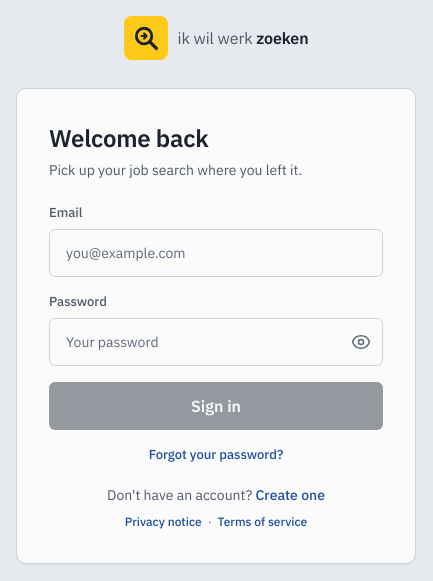
Test: LoginView › submit button is enabled when both fields have values
The width and height of the screenshot is (433, 581).
Type "a@b.com" into the field labelled "Email". click: (216, 253)
box: [49,229,383,277]
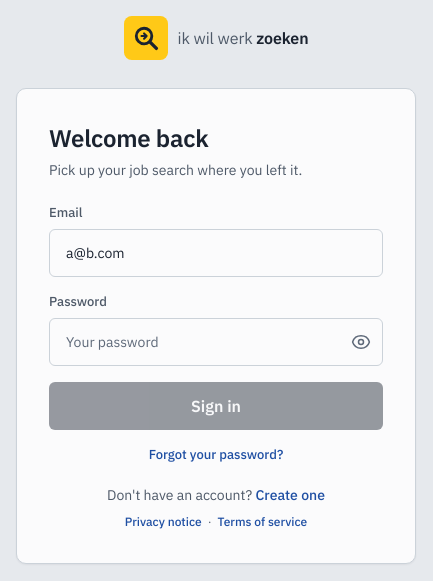
Type "pass123" into the password field with id "login-password". click: (216, 342)
box: [49,318,383,366]
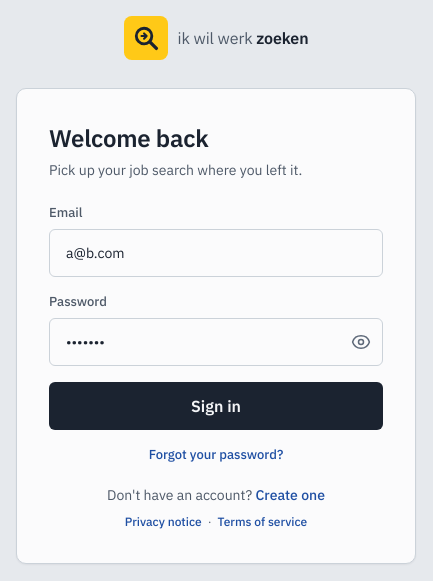
Result: the submit button is enabled at [49,382,383,430]
